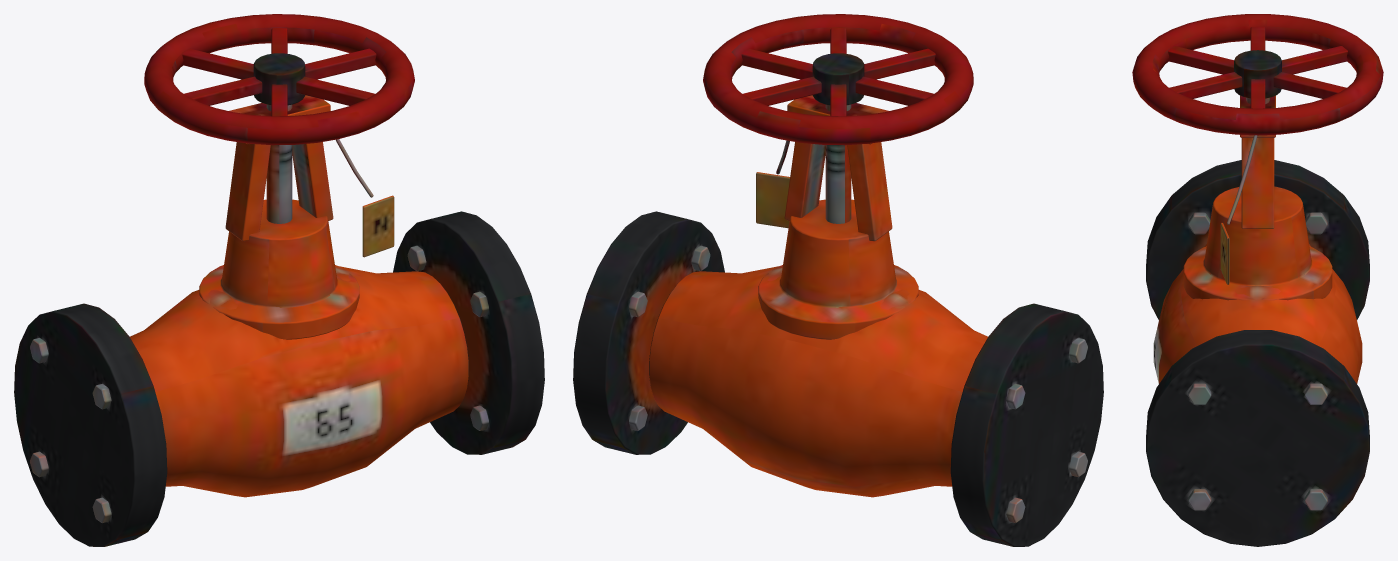
Rendered from valve.glb.
3 views of the same model, side by side, from view 1: azimuth 30°, elevation 25°; view 2: azimuth 150°, elevation 25°; view 3: azimuth 270°, elevation 25° (orthographic). The views are drawn at different scales.
Parts seen in each view (by area): view 1: valve; view 2: valve; view 3: valve.
Part boxes in pixels (<box>): valve: <box>14,14,544,546</box>; valve: <box>573,14,1103,546</box>; valve: <box>1132,14,1383,546</box>.
Size of the model in its own units: 0.304 by 0.291 by 0.1678.
1 material, 1 textured.
